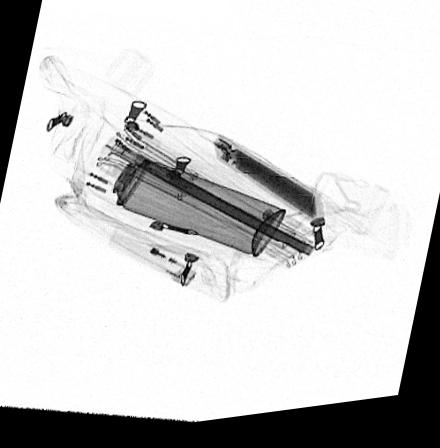Lighter: (107, 227, 196, 292)
Powerbank: (85, 145, 287, 265), (213, 143, 324, 232)
